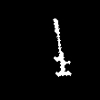double_crochet: (54, 19, 70, 76)
